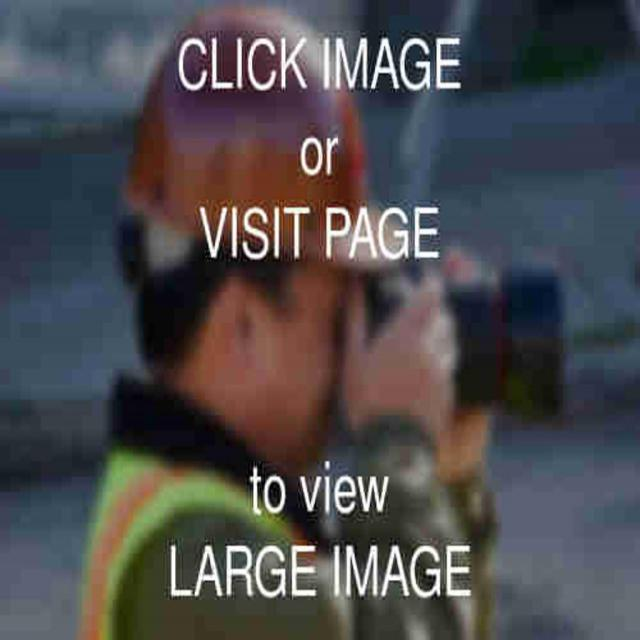nomask: (190, 172, 335, 444)
